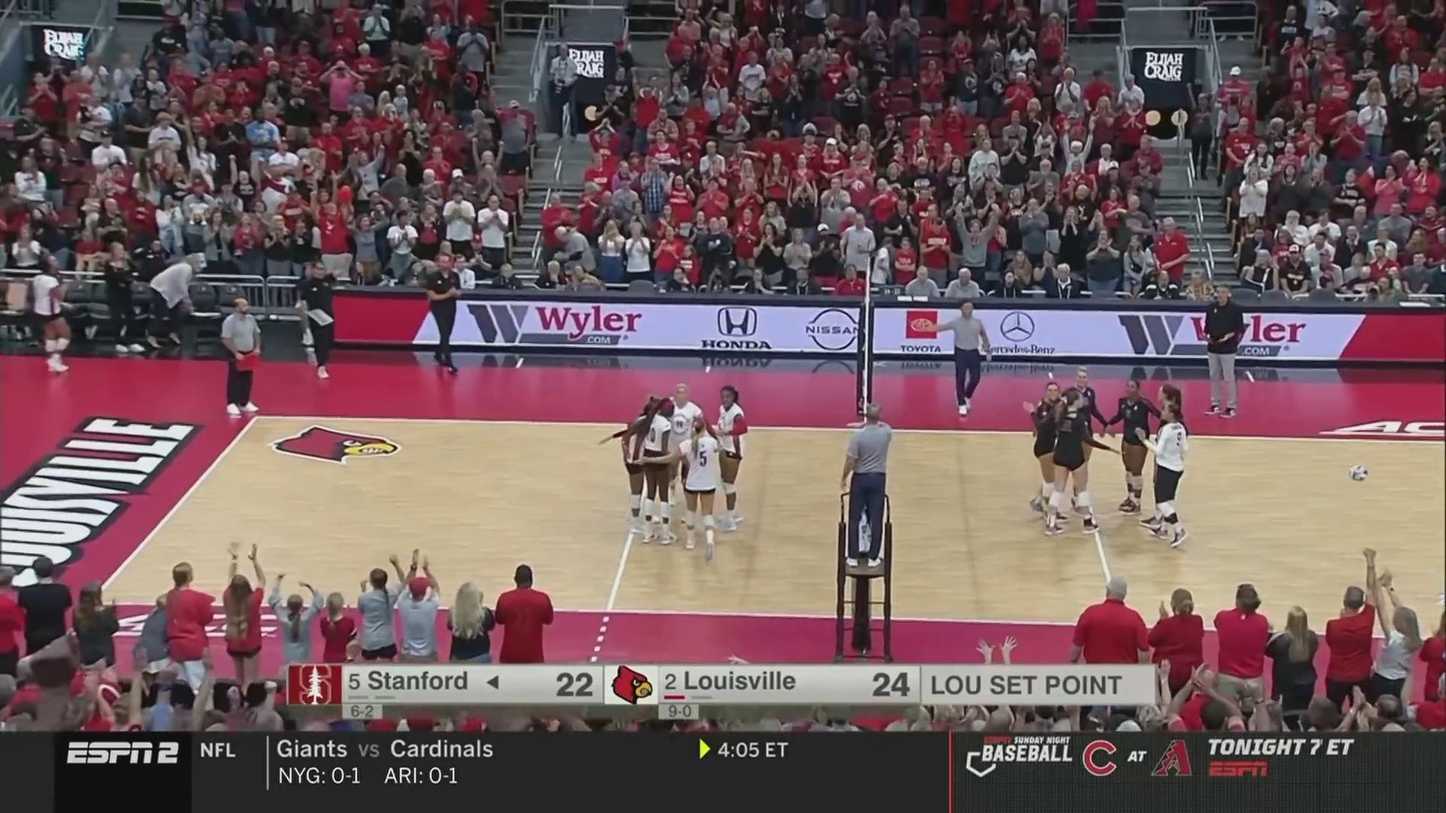player: (1104, 379, 1171, 517), (1042, 389, 1103, 535), (659, 420, 720, 560), (1053, 367, 1109, 512), (658, 383, 706, 523), (1142, 382, 1185, 526), (622, 396, 667, 531), (1148, 403, 1191, 542), (1030, 380, 1072, 522), (637, 398, 677, 545), (711, 388, 751, 531)
refree: (838, 413, 891, 565), (935, 300, 993, 419), (216, 299, 261, 417)
